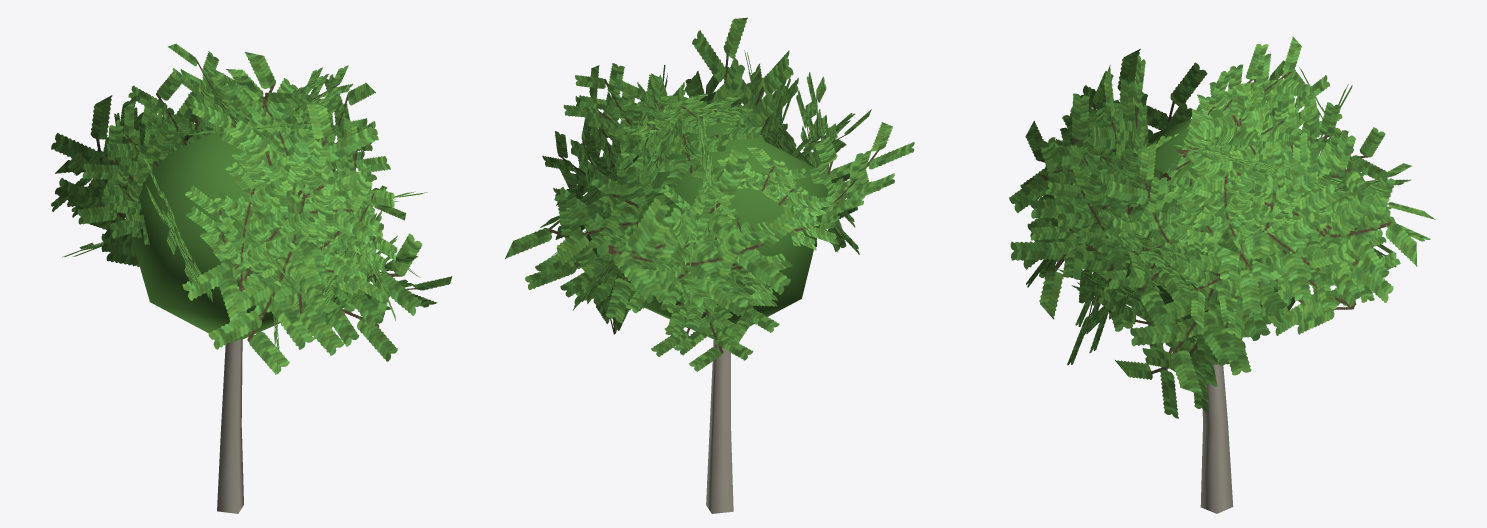
Rendered from FRAXINUS_2.glb.
The picture shows the model from 3 angles, left to right: view 1: azimuth 30°, elevation 25°; view 2: azimuth 150°, elevation 25°; view 3: azimuth 270°, elevation 25°; orthographic projection. The views are drawn at different scales.
Parts seen in each view (by area): view 1: Arv_FRAXINUS_lod2; view 2: Arv_FRAXINUS_lod2; view 3: Arv_FRAXINUS_lod2.
Boxes of the visible parts, x1,y1,x2,y2 form: Arv_FRAXINUS_lod2: (51, 43, 452, 513); Arv_FRAXINUS_lod2: (505, 17, 914, 513); Arv_FRAXINUS_lod2: (1009, 37, 1435, 513).
Bounding box in the file's own units: 9.42 × 11.42 × 10.78.
3 materials, 1 textured.
